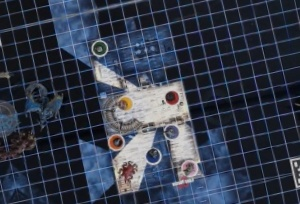blue: (140, 144, 165, 168)
green: (87, 35, 112, 59)
orange: (106, 130, 126, 152)
pink: (178, 155, 201, 179)
red: (162, 86, 184, 108)
violet: (162, 120, 181, 141)
yellow: (112, 93, 136, 115)
